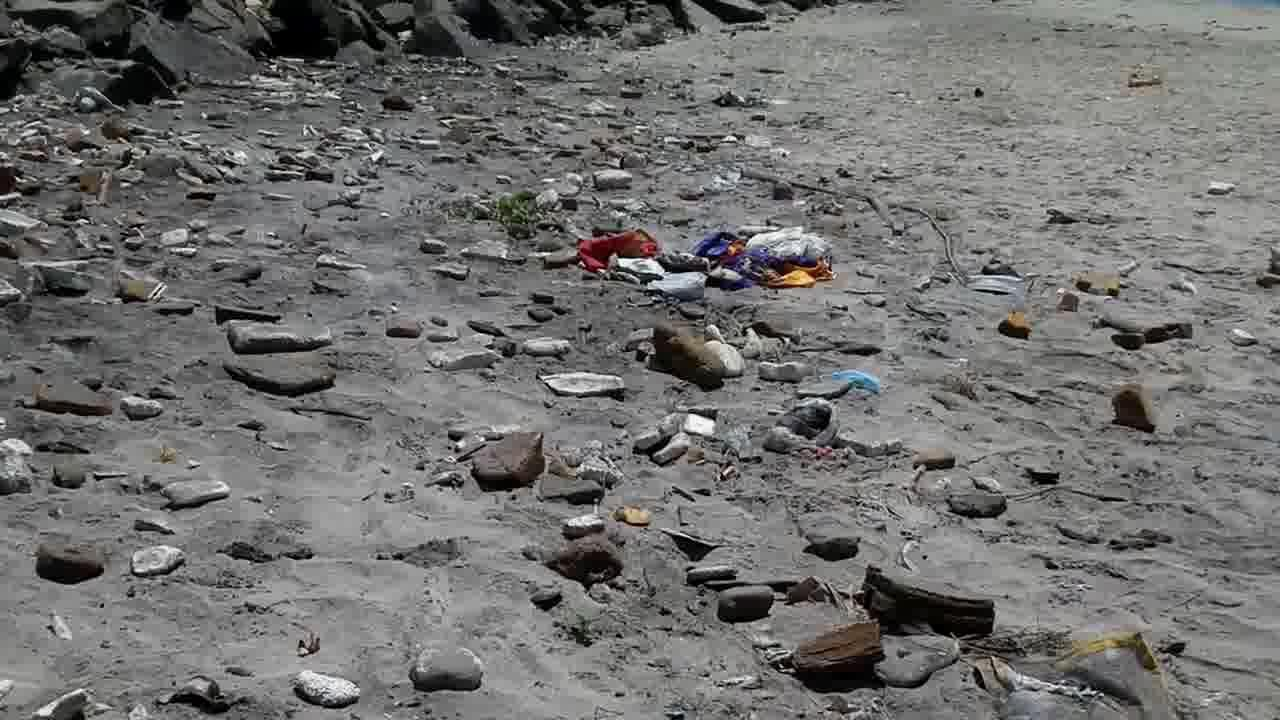large collection of objects: (1, 108, 234, 331), (232, 56, 508, 192)
obj: (578, 219, 842, 302), (968, 636, 1193, 719), (204, 318, 334, 396), (856, 567, 996, 632), (461, 189, 567, 239), (791, 616, 882, 672), (1089, 300, 1190, 348), (474, 429, 546, 494), (655, 325, 728, 383), (395, 644, 482, 688), (34, 537, 108, 585), (630, 413, 690, 467), (422, 329, 494, 373), (288, 670, 361, 707), (36, 382, 116, 415), (1109, 388, 1157, 440), (705, 326, 744, 381), (538, 373, 626, 395), (126, 544, 182, 578), (1, 441, 33, 496), (119, 273, 166, 305), (167, 480, 226, 505), (994, 304, 1036, 336), (832, 367, 881, 394), (1075, 268, 1119, 295), (613, 505, 660, 524), (1125, 64, 1161, 88), (593, 165, 632, 187), (682, 412, 715, 437), (523, 336, 571, 352), (124, 395, 160, 416), (1226, 327, 1256, 346), (1208, 183, 1233, 194)
sand/background: (1, 1, 796, 107), (1204, 0, 1278, 17)
